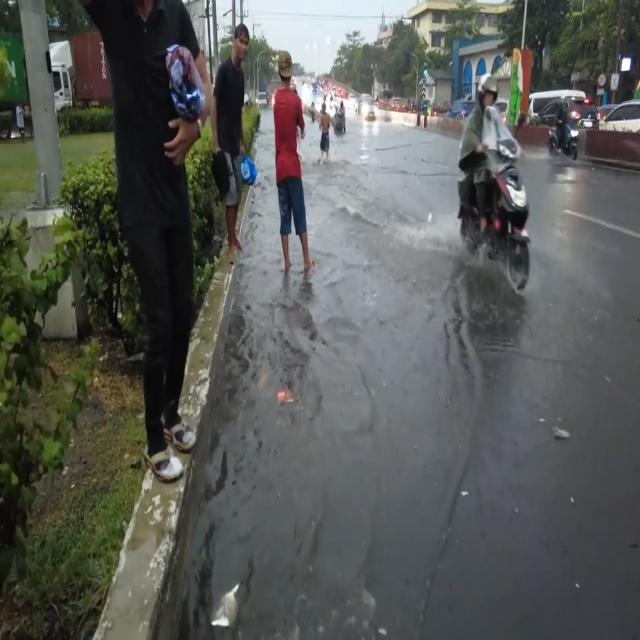half: (476, 70, 500, 118)
